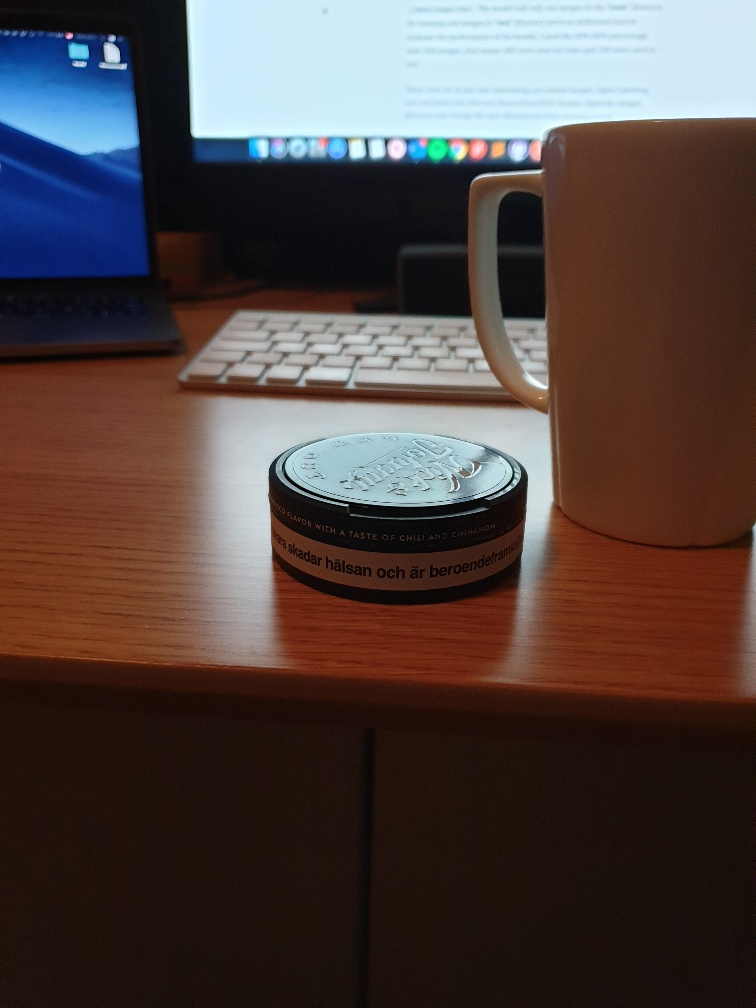snus: (258, 428, 535, 612)
